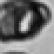correct: (0, 0, 52, 46)
